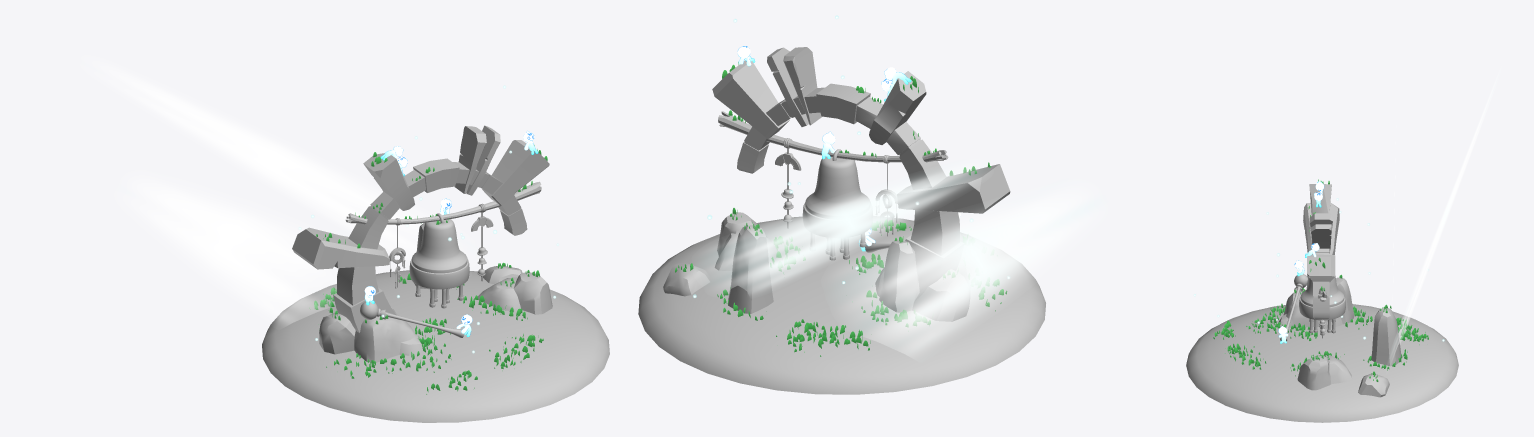
The picture shows the model from 3 angles, left to right: view 1: azimuth 30°, elevation 25°; view 2: azimuth 150°, elevation 25°; view 3: azimuth 270°, elevation 25°; orthographic projection. The views are drawn at different scales.
Parts seen in each view (by area): view 1: Ground_low, Cylinder.002, Arch_low, Cylinder.107, Rocks_low, Bell_low, Cylinder.119, Wood_low, Elves_low, Hammer_low; view 2: Ground_low, Cylinder.002, Arch_low, Cylinder.107, Rocks_low, Bell_low, Cylinder.119, Wood_low, Elves_low, Carillion_1_low; view 3: Ground_low, Rocks_low, Arch_low, Cylinder.119, Cylinder.107, Bell_low, Elves_low, Hammer_low.
Boxes of the visible parts, <box> form: Ground_low: <box>262,270,609,422</box>; Cylinder.002: <box>123,175,337,325</box>; Arch_low: <box>292,125,549,332</box>; Cylinder.107: <box>92,61,467,262</box>; Rocks_low: <box>319,222,552,362</box>; Bell_low: <box>409,213,469,308</box>; Cylinder.119: <box>309,273,543,394</box>; Wood_low: <box>345,181,541,225</box>; Elves_low: <box>364,131,538,336</box>; Hammer_low: <box>360,301,464,337</box>; Ground_low: <box>638,216,1045,394</box>; Cylinder.002: <box>836,186,1098,357</box>; Arch_low: <box>712,47,1010,291</box>; Cylinder.107: <box>704,163,980,294</box>; Rocks_low: <box>663,212,969,321</box>; Bell_low: <box>802,149,869,260</box>; Cylinder.119: <box>717,220,1007,356</box>; Wood_low: <box>718,111,948,163</box>; Elves_low: <box>737,46,960,251</box>; Carillion_1_low: <box>775,148,801,228</box>; Ground_low: <box>1186,304,1458,422</box>; Rocks_low: <box>1277,277,1401,397</box>; Arch_low: <box>1303,184,1339,318</box>; Cylinder.119: <box>1213,303,1428,376</box>; Cylinder.107: <box>1390,74,1498,361</box>; Bell_low: <box>1299,276,1345,335</box>; Elves_low: <box>1278,181,1324,343</box>; Hammer_low: <box>1280,274,1308,341</box>.
Bounding box in the file's own units: 7.51 × 5.56 × 5.93.
